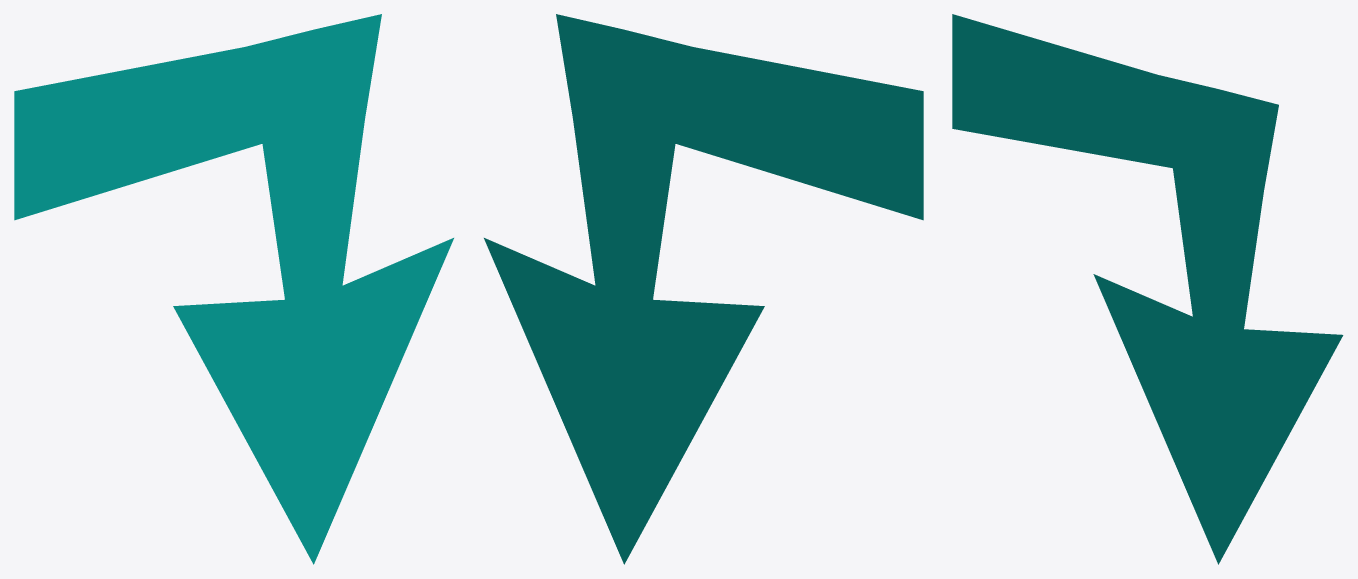
The model's file is mesh_arrow_bended.fbx.
3 views of the same model, side by side, from view 1: azimuth 30°, elevation 25°; view 2: azimuth 150°, elevation 25°; view 3: azimuth 330°, elevation 25° (orthographic). The views are drawn at different scales.
Visible parts, largest first — view 1: mesh_arrow_bended; view 2: mesh_arrow_bended; view 3: mesh_arrow_bended.
Boxes of the visible parts, bbox=[...] form: mesh_arrow_bended: bbox=[14, 14, 453, 564]; mesh_arrow_bended: bbox=[484, 14, 923, 564]; mesh_arrow_bended: bbox=[952, 14, 1343, 564].
Size of the model in its own units: 0.0426 by 0.0506 by 0.
